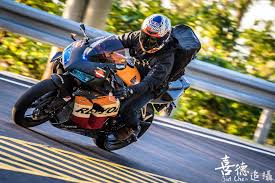helmet: (142, 14, 168, 47)
